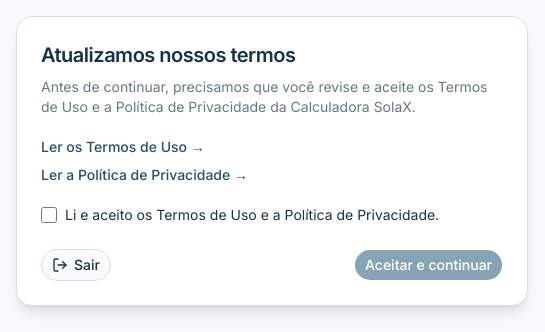
it: TermsAcceptanceForm › disables "Aceitar e continuar" until the checkbox is checked
Expected: the button "Aceitar e continuar" is disabled, [354,249,503,281]
Click the checkbox at (49, 215), box [41,207,57,223]
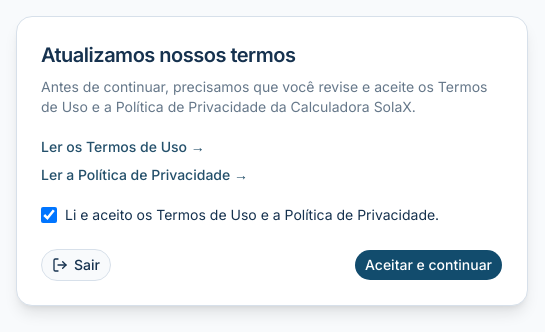
Expected: the button "Aceitar e continuar" is enabled, [354,249,503,281]
